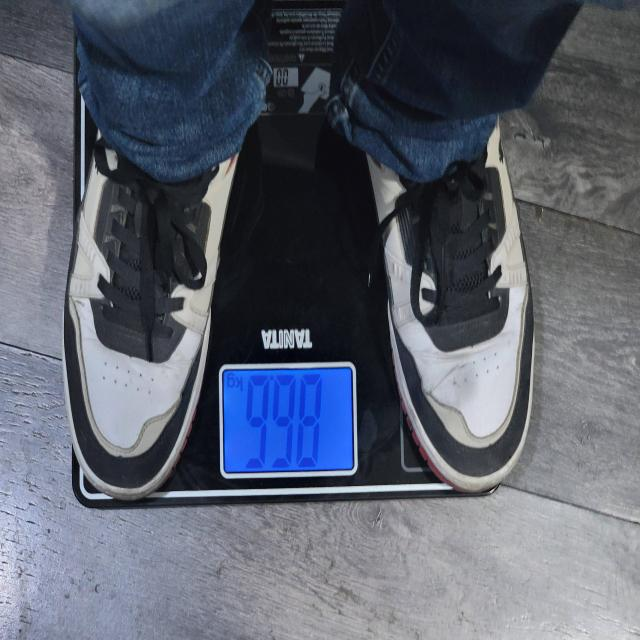ws: (214, 361, 360, 483)
